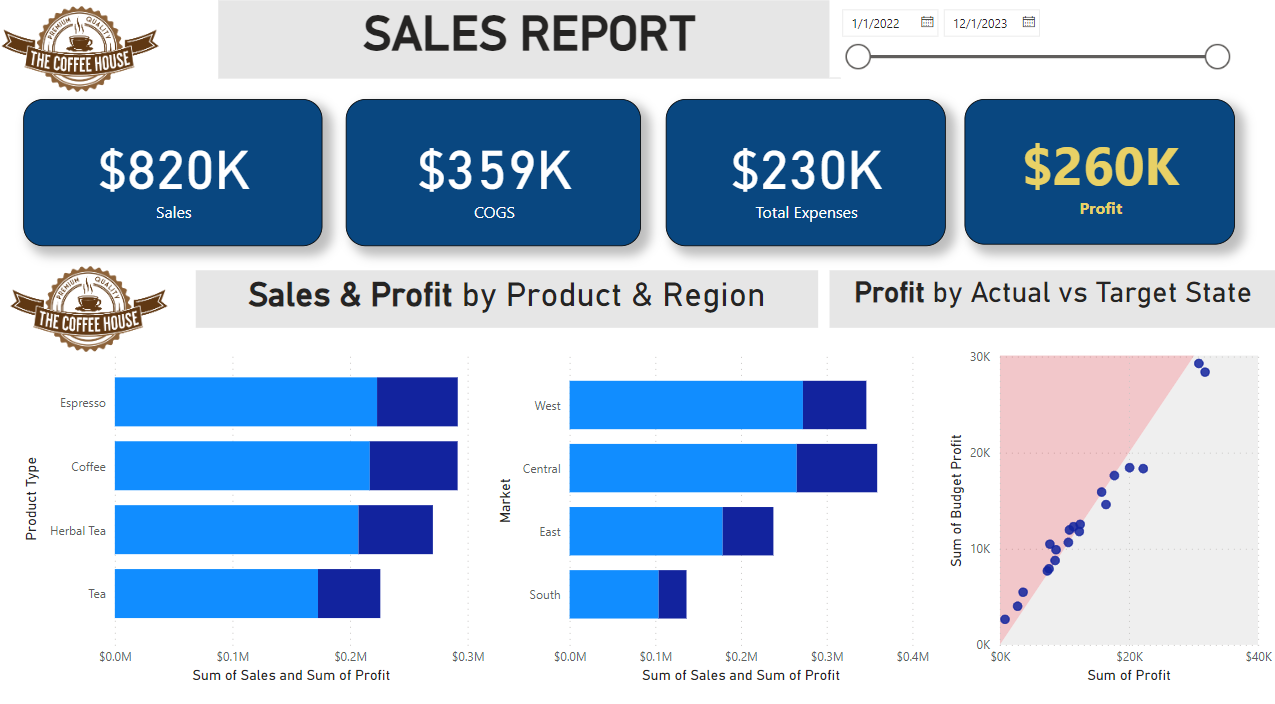

What the dashboard file says about the page in this screenshot:
{"tool":"powerbi","page":{"name":"Page 1","canvas":[1280,720],"ordinal":0},"visuals":[{"type":"group","id":"g1","title":"Group 1","box":[20.9,99.7,1216.9,590.1],"z":0},{"type":"card","fields":{"Values":["Sum(CoffeeChain Query.Sales)"]},"box":[25.7,99.7,299.1,147.1],"z":0,"group":"g2"},{"type":"card","fields":{"Values":["Sum(CoffeeChain Query.COGS)"]},"box":[347.7,99.7,295.4,147.1],"z":1000,"group":"g2"},{"type":"barChart","fields":{"Y":["Sum(CoffeeChain Query.Sales)","Sum(CoffeeChain Query.Profit)"],"Category":["CoffeeChain Query.Market"]},"box":[494.5,343.7,442.6,346.1],"z":1000},{"type":"card","fields":{"Values":["Sum(CoffeeChain Query.Total Expenses)"]},"box":[668.4,99.7,279.8,147.1],"z":2000,"group":"g2"},{"type":"scatterChart","fields":{"Category":["CoffeeChain Query.State"],"X":["Sum(CoffeeChain Query.Profit)"],"Y":["Sum(CoffeeChain Query.Budget Profit)"]},"box":[946.7,343.7,334.1,346.1],"z":2000},{"type":"group","id":"g2","title":"Group 2","box":[25.7,99.7,1212.1,147.1],"z":2001,"group":"g1"},{"type":"image","box":[0,0,166.4,100.1],"z":3000},{"type":"card","fields":{"Values":["Sum(CoffeeChain Query.Profit)"]},"box":[967.5,100.2,270.1,145.9],"z":3000,"group":"g2"},{"type":"textbox","box":[220.7,1.2,622.3,78.4],"z":4000},{"type":"barChart","fields":{"Category":["CoffeeChain Query.Product Type"],"Y":["Sum(CoffeeChain Query.Sales)","Sum(CoffeeChain Query.Profit)"]},"box":[20.9,340,471.6,349.7],"z":4000,"group":"g1"},{"type":"slicer","fields":{"Values":["CoffeeChain Query.Date"]},"box":[832.2,0,408.8,78.4],"z":5000},{"type":"textbox","box":[199,271.4,622.3,57.9],"z":6000},{"type":"image","box":[8.4,260.5,166.4,100.1],"z":7000},{"type":"textbox","box":[832.2,271.4,447.4,57.9],"z":8000}]}

Visuals, with their boxes in screenshot pixels (x1, y1, x2, y2), scaled from the page's 1280x720 canvas onto the 1275x704 screenshot:
"Group 1" group: select_region(21, 97, 1233, 674)
card - Sum(CoffeeChain Query.Sales): select_region(26, 97, 324, 241)
card - Sum(CoffeeChain Query.COGS): select_region(346, 97, 641, 241)
barChart - Sum(CoffeeChain Query.Sales) x Sum(CoffeeChain Query.Profit): select_region(493, 336, 933, 674)
card - Sum(CoffeeChain Query.Total Expenses): select_region(666, 97, 944, 241)
scatterChart - CoffeeChain Query.State x Sum(CoffeeChain Query.Profit): select_region(943, 336, 1274, 674)
"Group 2" group: select_region(26, 97, 1233, 241)
image: select_region(0, 0, 166, 98)
card - Sum(CoffeeChain Query.Profit): select_region(964, 98, 1233, 241)
textbox: select_region(220, 1, 840, 78)
barChart - CoffeeChain Query.Product Type x Sum(CoffeeChain Query.Sales): select_region(21, 332, 491, 674)
slicer - CoffeeChain Query.Date: select_region(829, 0, 1236, 77)
textbox: select_region(198, 265, 818, 322)
image: select_region(8, 255, 174, 353)
textbox: select_region(829, 265, 1274, 322)
